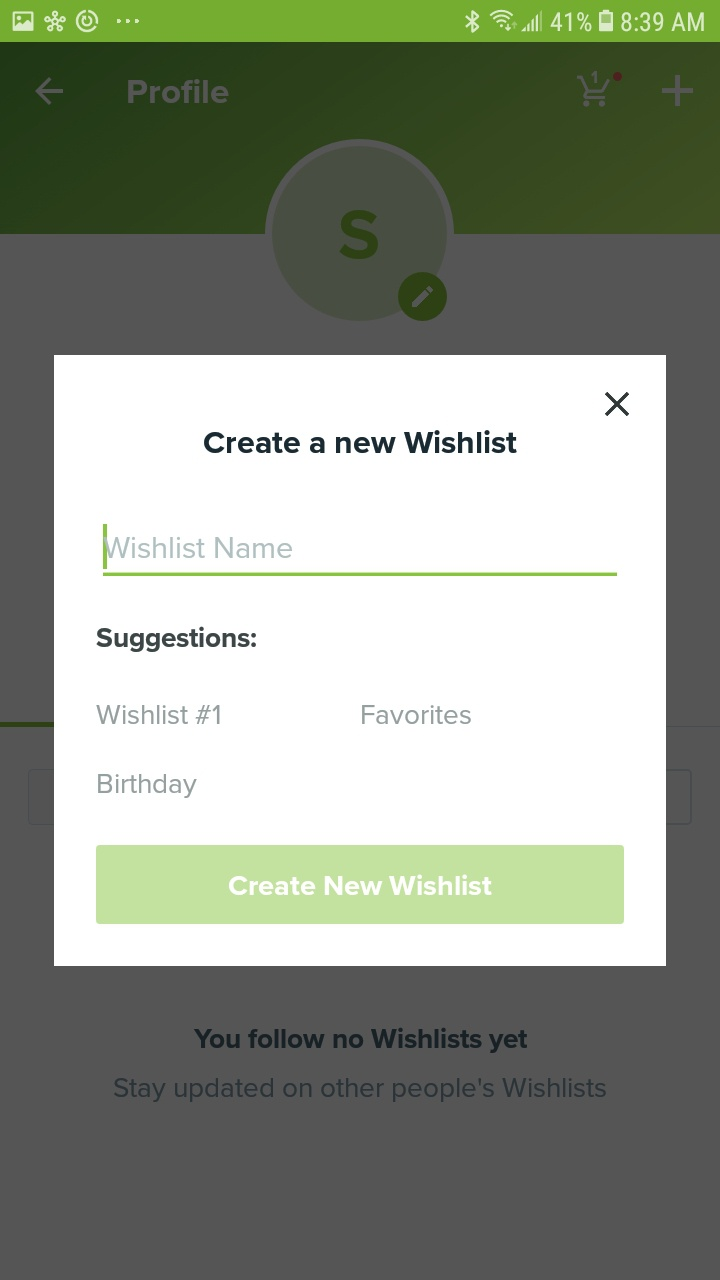EditText: (103, 524, 618, 577)
Icon: (576, 71, 609, 109), (661, 76, 694, 108), (35, 78, 65, 108), (605, 392, 630, 417)
Image: (271, 145, 449, 323)
Modal: (54, 355, 666, 967)
Text: (114, 1078, 607, 1103), (194, 1028, 528, 1053), (204, 430, 518, 454), (104, 536, 293, 559), (97, 626, 257, 653), (128, 80, 230, 106), (96, 704, 222, 725), (98, 773, 198, 799), (362, 705, 472, 725)
TextButton: (96, 845, 624, 925)
UpperTaskBar: (1, 1, 720, 43)
